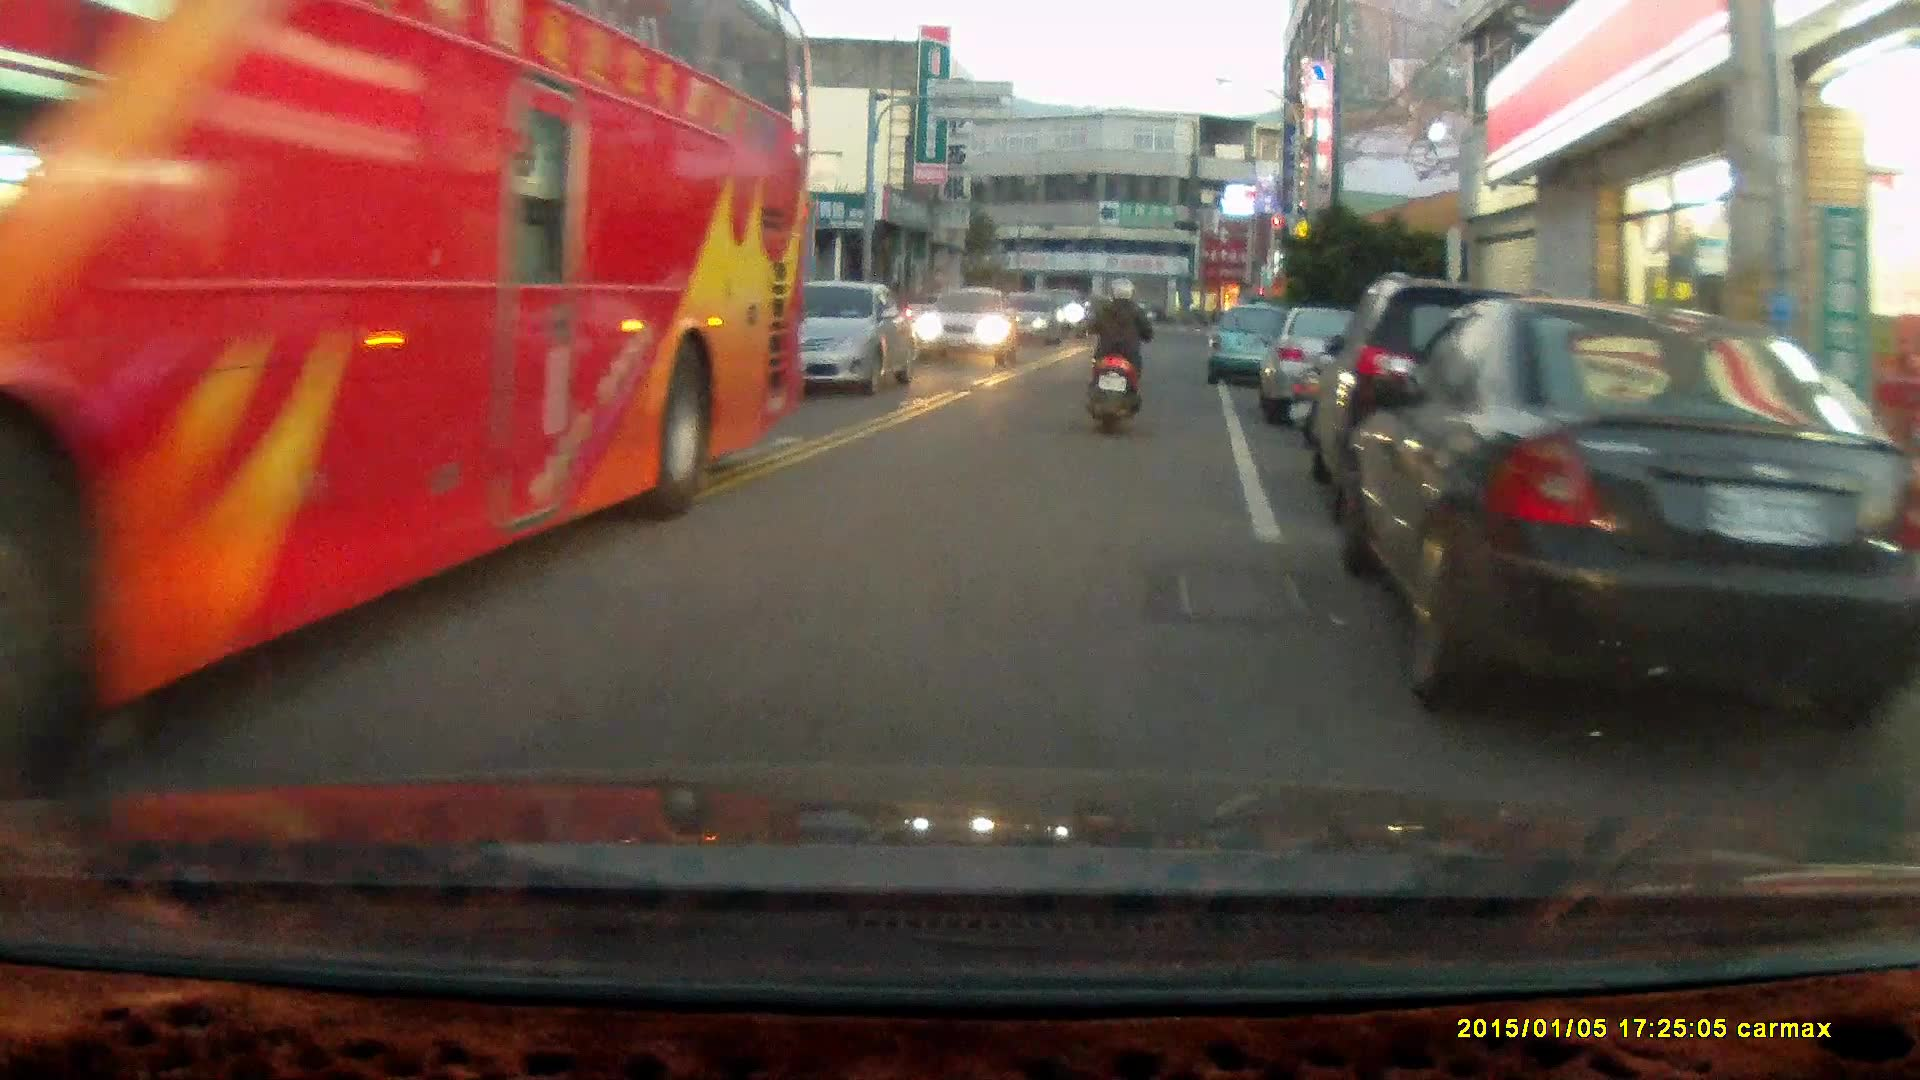rider: (1082, 275, 1155, 434)
vehicle: (1, 9, 816, 745), (1343, 300, 1920, 747), (1302, 270, 1628, 539), (1264, 304, 1450, 434), (742, 282, 912, 396), (916, 283, 1024, 366), (1208, 301, 1303, 387)
